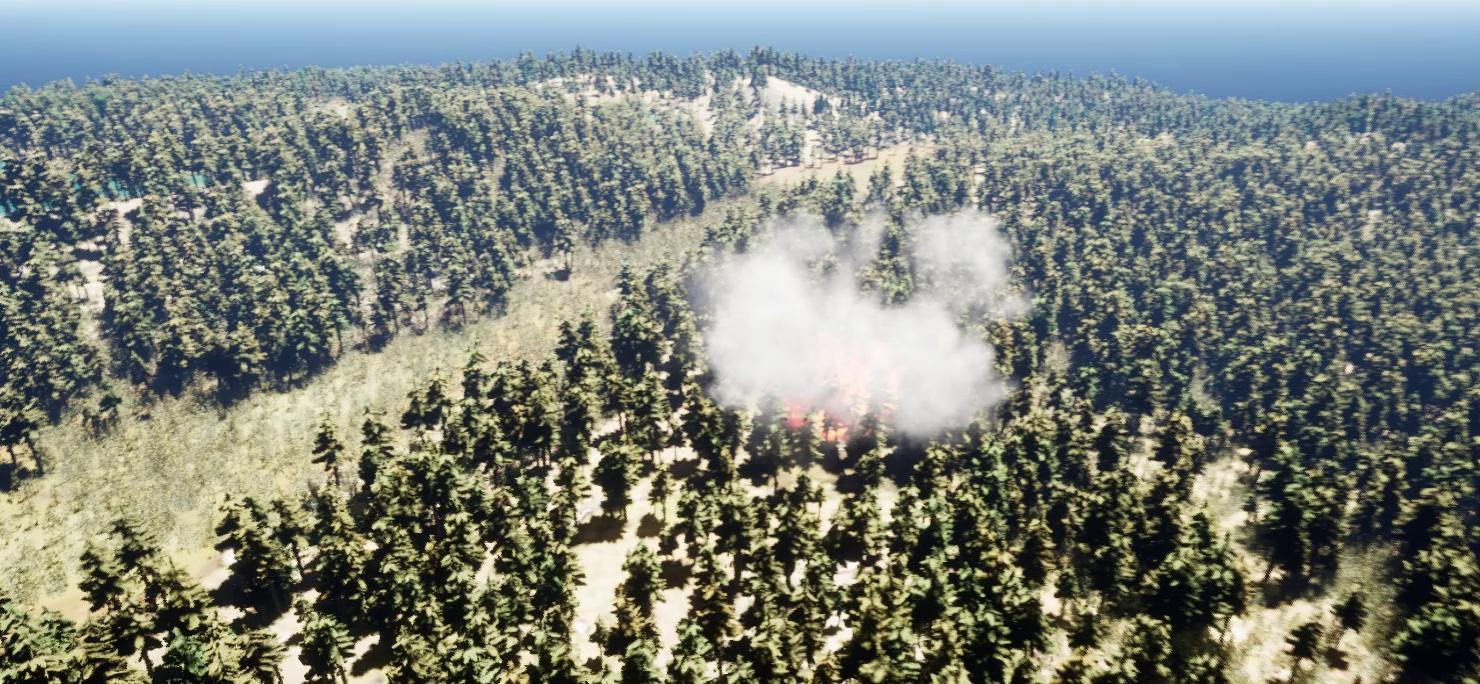smoke: (685, 206, 1044, 447)
